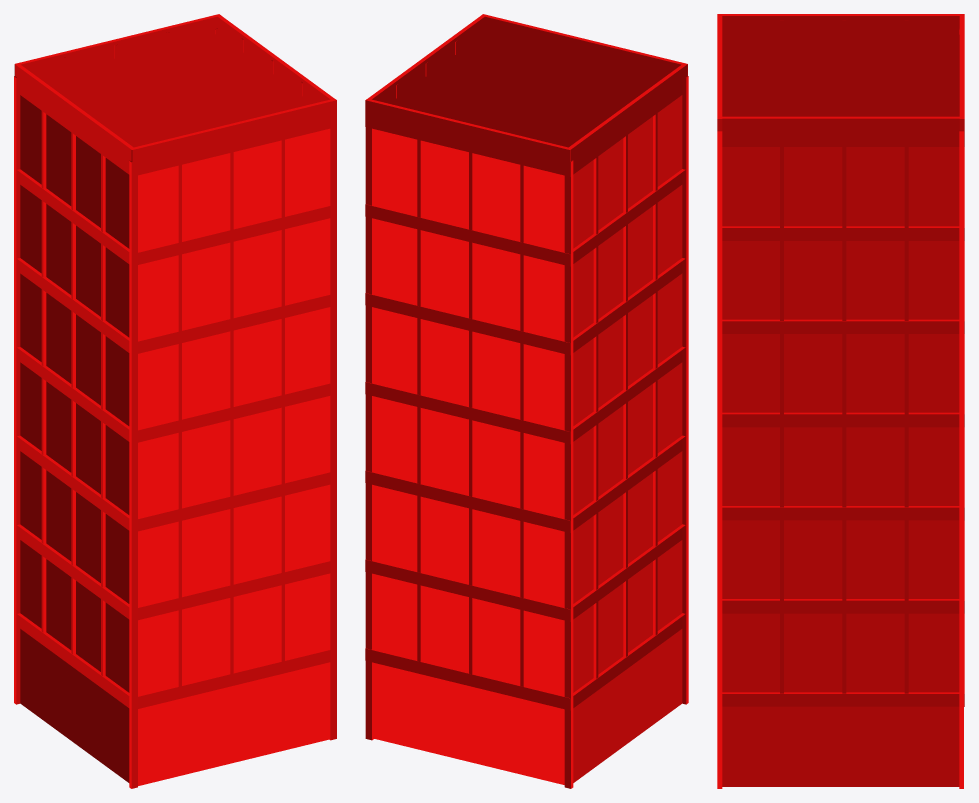
File: MediumBuilding_M_V1_Raghu.fbx
3 views of the same model, side by side, from view 1: azimuth 30°, elevation 25°; view 2: azimuth 150°, elevation 25°; view 3: azimuth 270°, elevation 25° (orthographic). The views are drawn at different scales.
Parts seen in each view (by area): view 1: medBuilding_M_v1_raghu_low; view 2: medBuilding_M_v1_raghu_low; view 3: medBuilding_M_v1_raghu_low.
Boxes of the visible parts, x1,y1,x2,y2 form: medBuilding_M_v1_raghu_low: (14, 14, 336, 788); medBuilding_M_v1_raghu_low: (365, 14, 688, 788); medBuilding_M_v1_raghu_low: (717, 14, 964, 788).
Size of the model in its own units: 1037 by 3082 by 1029.
